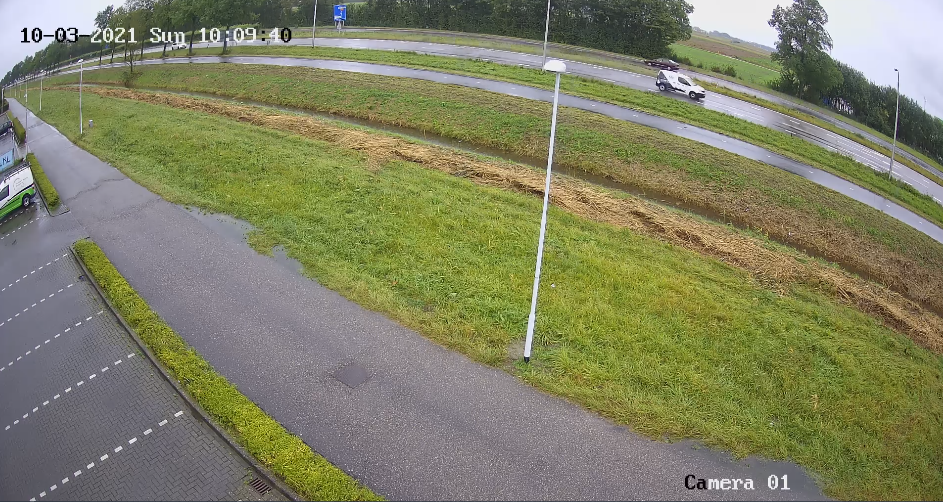werkbus: (656, 64, 710, 104)
